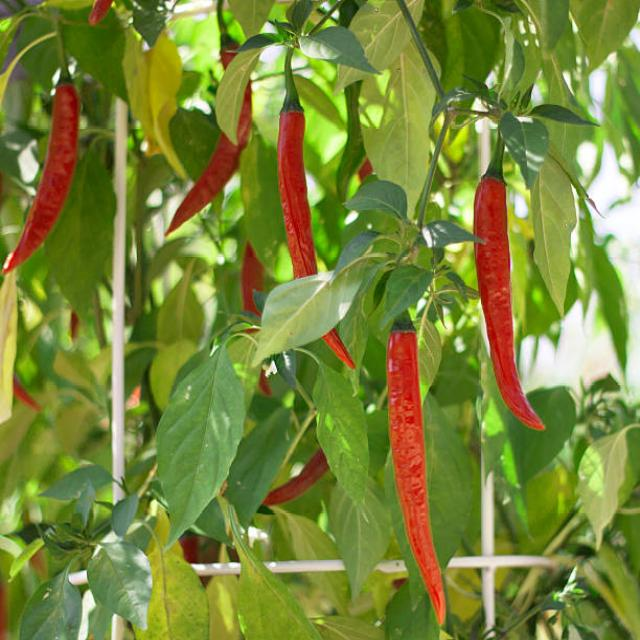Ripe: (475, 140, 541, 429), (386, 330, 445, 637), (0, 82, 82, 295), (166, 83, 251, 234), (278, 107, 320, 280)
